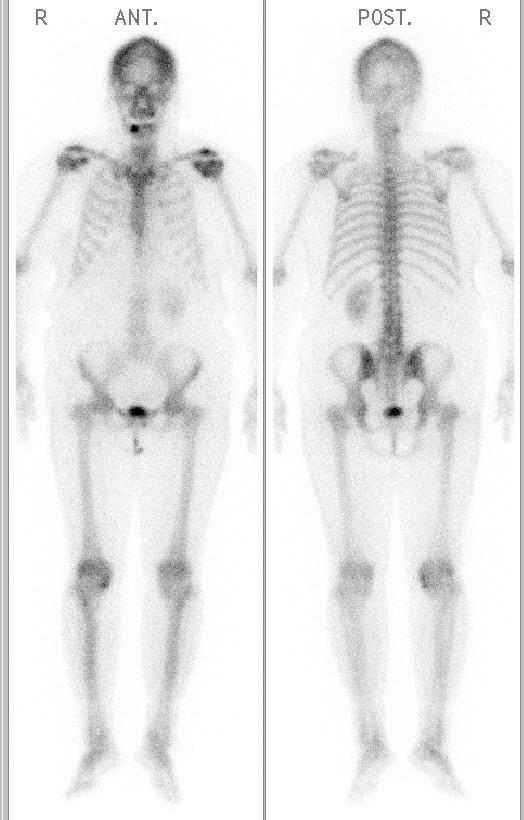person: (9, 1, 521, 820)
